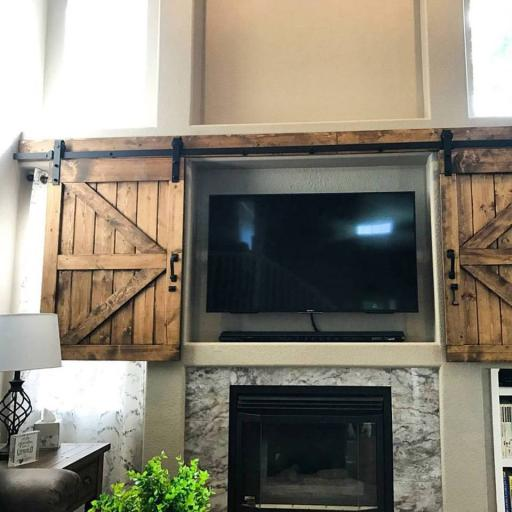Door: (40, 149, 184, 361), (439, 145, 512, 362)
